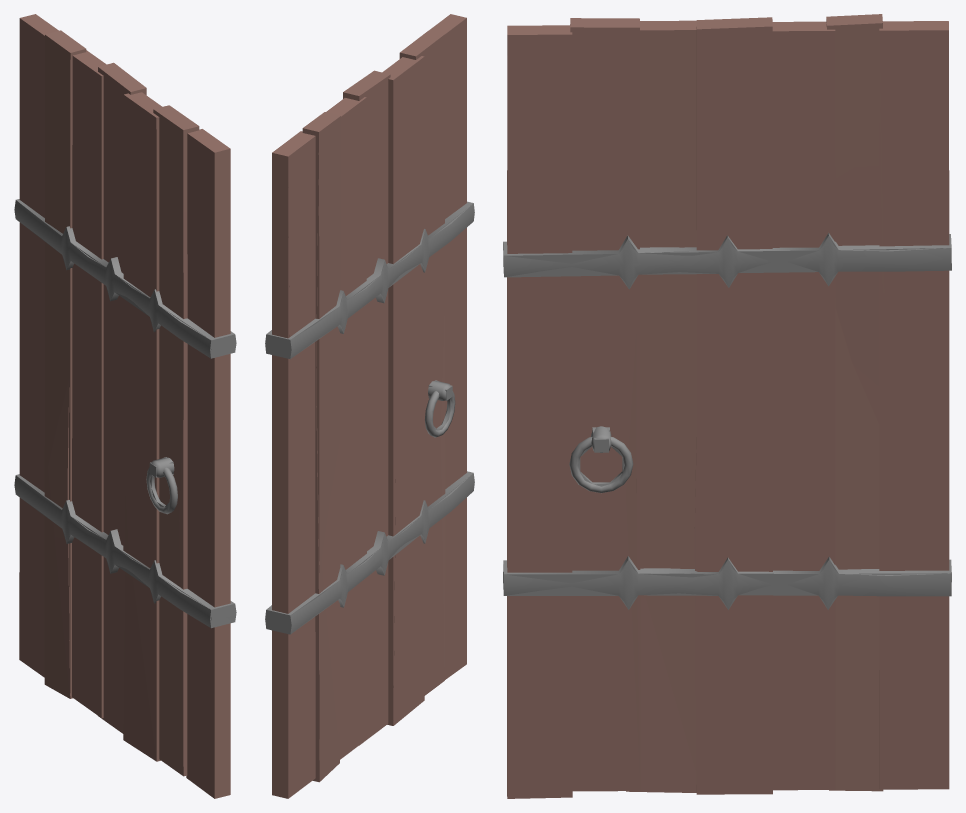
File: Wooden_Door_1.fbx
The picture shows the model from 3 angles, left to right: view 1: azimuth 30°, elevation 25°; view 2: azimuth 150°, elevation 25°; view 3: azimuth 270°, elevation 25°; orthographic projection. The views are drawn at different scales.
Visible parts, largest first — view 1: Wooden_Door_1_LOD0, Wooden_Door_1; view 2: Wooden_Door_1_LOD0, Wooden_Door_1; view 3: Wooden_Door_1_LOD0, Wooden_Door_1.
Boxes of the visible parts, <box> form: Wooden_Door_1_LOD0: <box>16,14,234,798</box>; Wooden_Door_1: <box>14,38,236,776</box>; Wooden_Door_1_LOD0: <box>266,14,473,798</box>; Wooden_Door_1: <box>265,128,474,782</box>; Wooden_Door_1_LOD0: <box>503,14,951,798</box>; Wooden_Door_1: <box>503,23,951,792</box>.
Size of the model in its own units: 0.1831 by 2.18 by 1.15.
